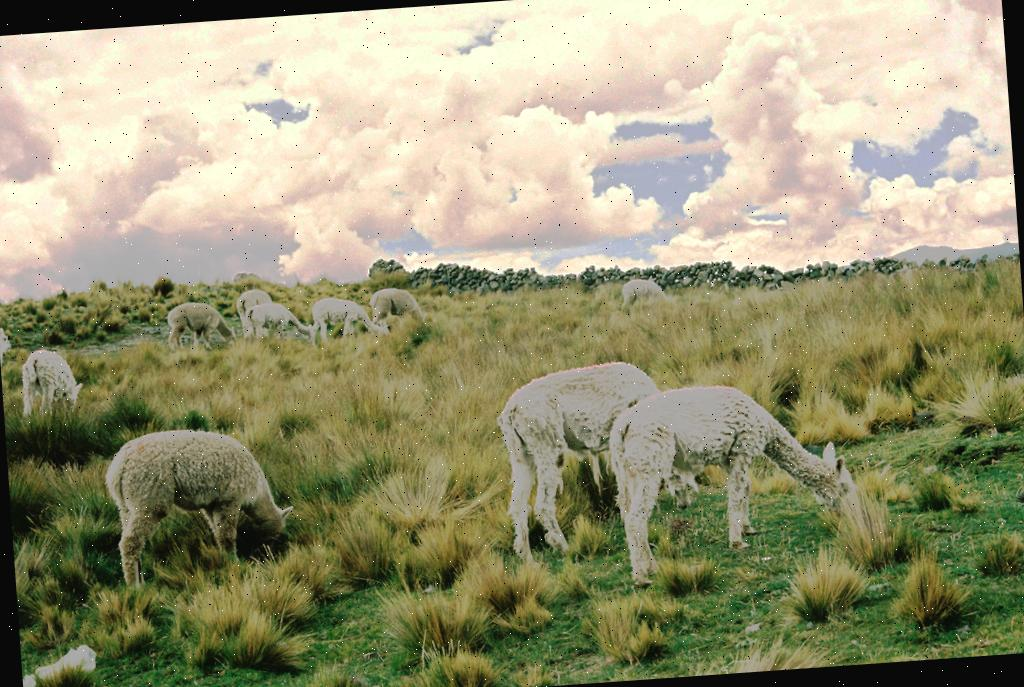Sheep: (602, 373, 860, 585), (490, 355, 702, 565), (99, 422, 299, 594), (18, 342, 86, 416), (312, 294, 388, 346), (168, 300, 237, 348), (364, 286, 426, 330), (248, 299, 308, 340), (233, 286, 275, 330), (617, 277, 664, 304), (0, 325, 9, 352)
